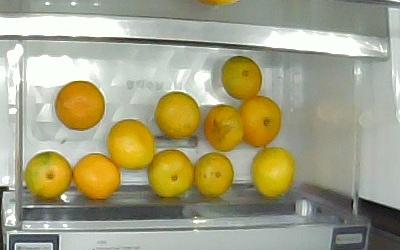tangerine: (55, 80, 106, 132), (106, 115, 154, 170), (25, 151, 74, 199), (147, 150, 194, 200), (154, 91, 201, 141), (238, 97, 283, 148), (252, 147, 296, 199), (73, 153, 121, 200), (219, 55, 263, 102), (203, 104, 243, 151), (195, 153, 234, 200)
